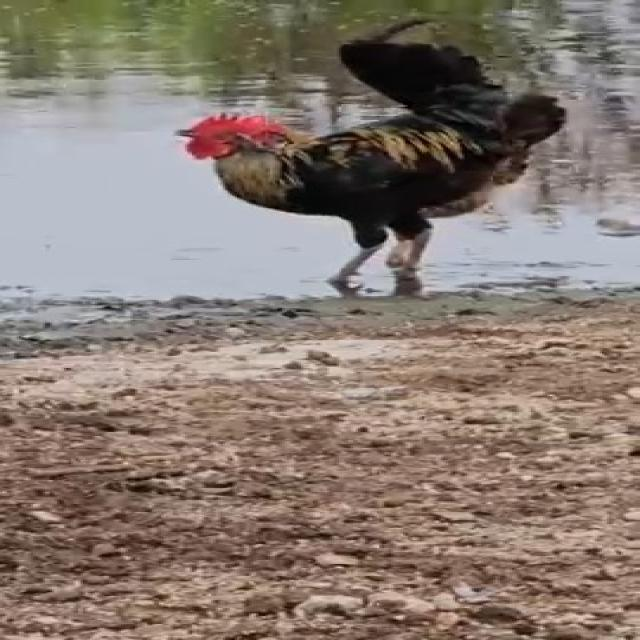drinking: (166, 36, 582, 299)
